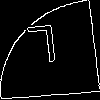L: (25, 25, 60, 73)
